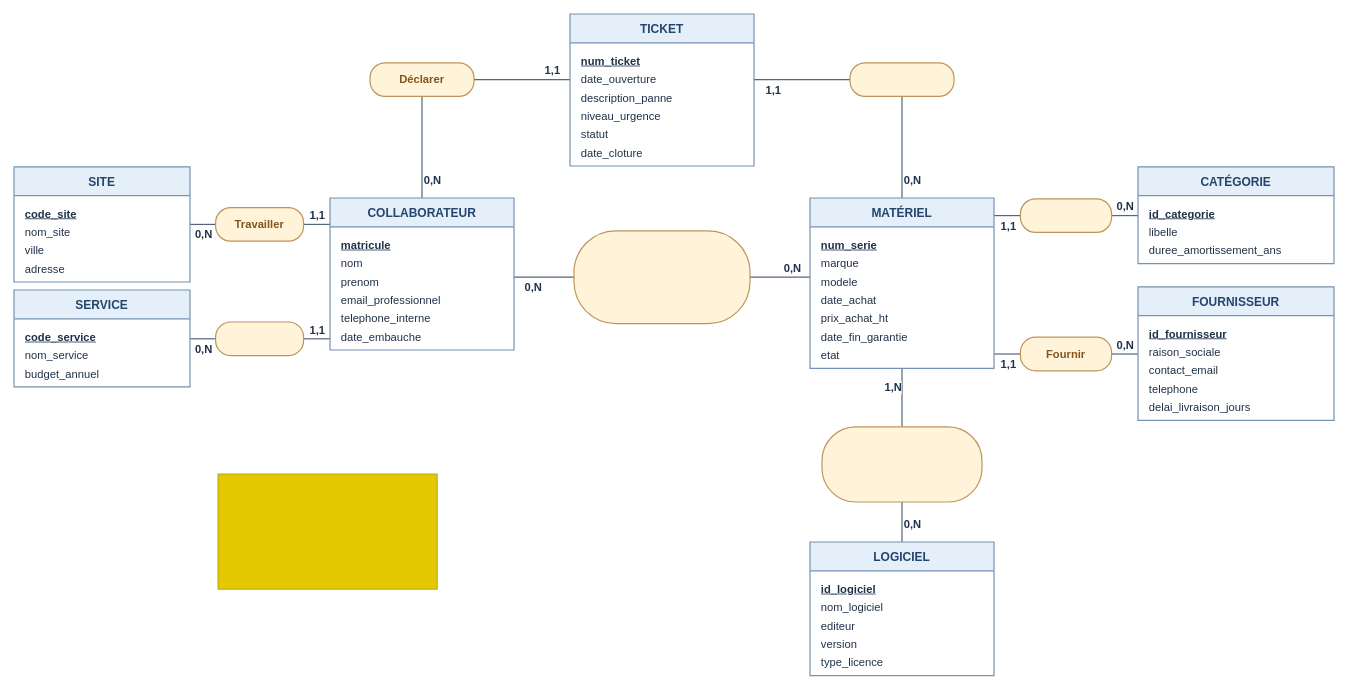
Some shapes in this 1349 by 692 pixel diagram are drawn without their labels. The centre of each missing label's shape, as x and y in pixels:
Affecter date_attribution date_restitution commentaire_etat: (661,277)
Appartenir: (1065,215)
Concerner: (901,79)
Diagramme restructuré par IA pour une meilleure visibilité contenus non affecté: (327,531)
Installer date_installation cle_licence: (901,464)
Rattacher: (259,338)
